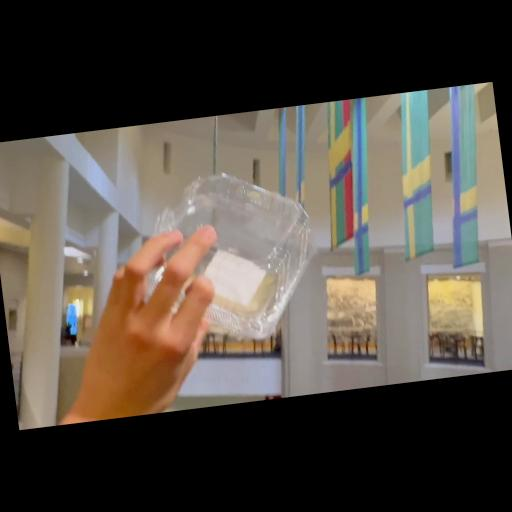small_plastic_container: (130, 156, 324, 352)
